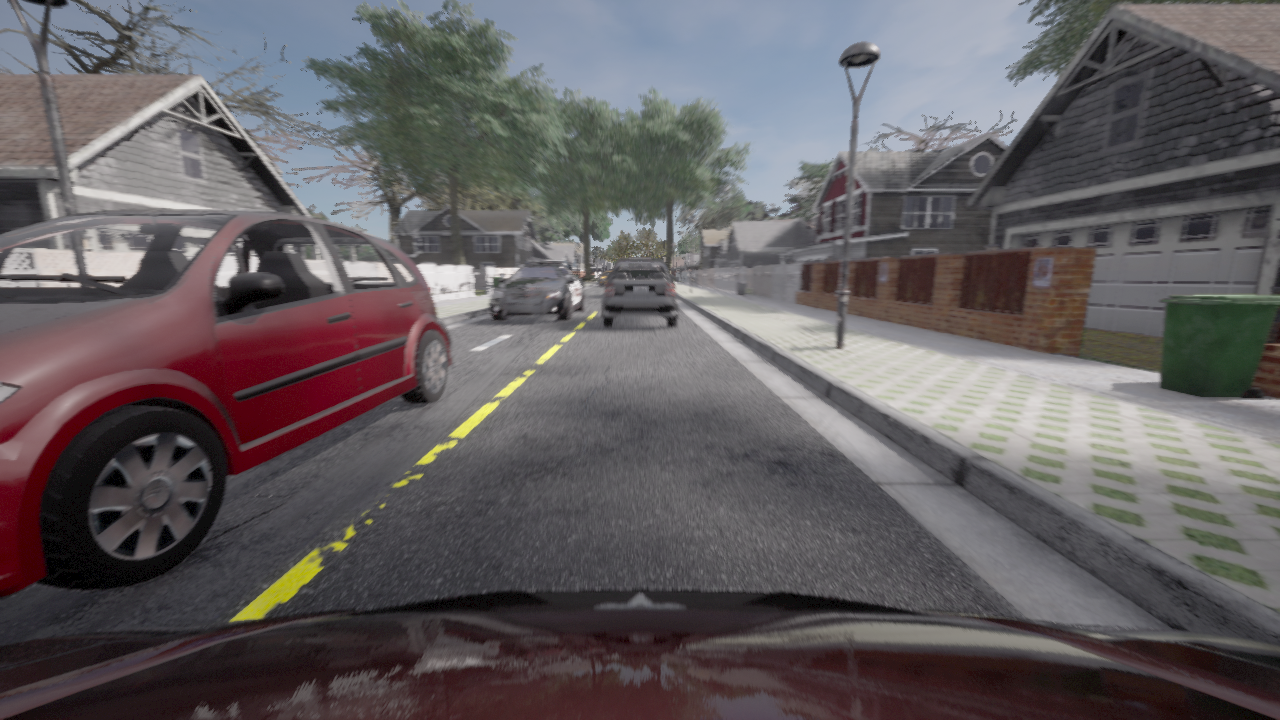cyclist: (0, 210, 451, 598), (0, 588, 1279, 719), (488, 261, 583, 320), (602, 259, 677, 326), (599, 270, 611, 286)
